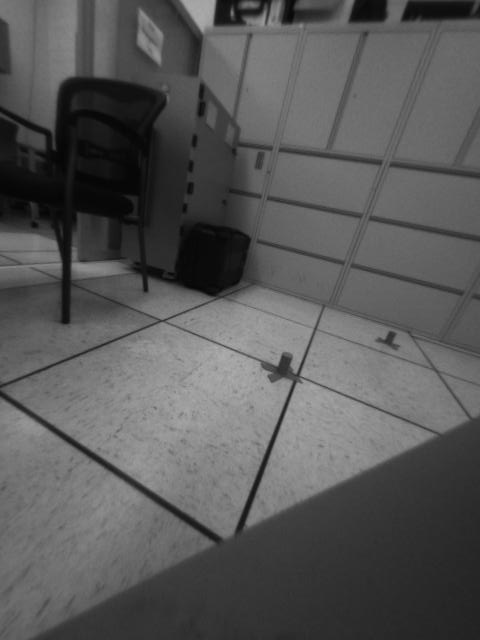X: (257, 351, 305, 385), (371, 326, 402, 353)
